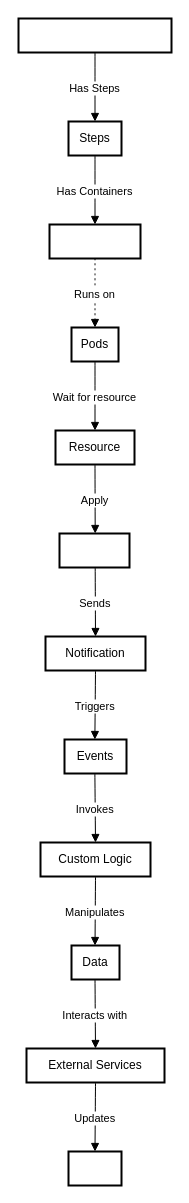
This 189x1203 diagram has some shape labels left out. Here are the shapes that lost their labels. From the top down, the centre of each, then its label:
At (x=94, y=35): "Workflow Template".
At (x=94, y=241): "Containers".
At (x=94, y=550): "Artifact".
At (x=94, y=1168): "State".
